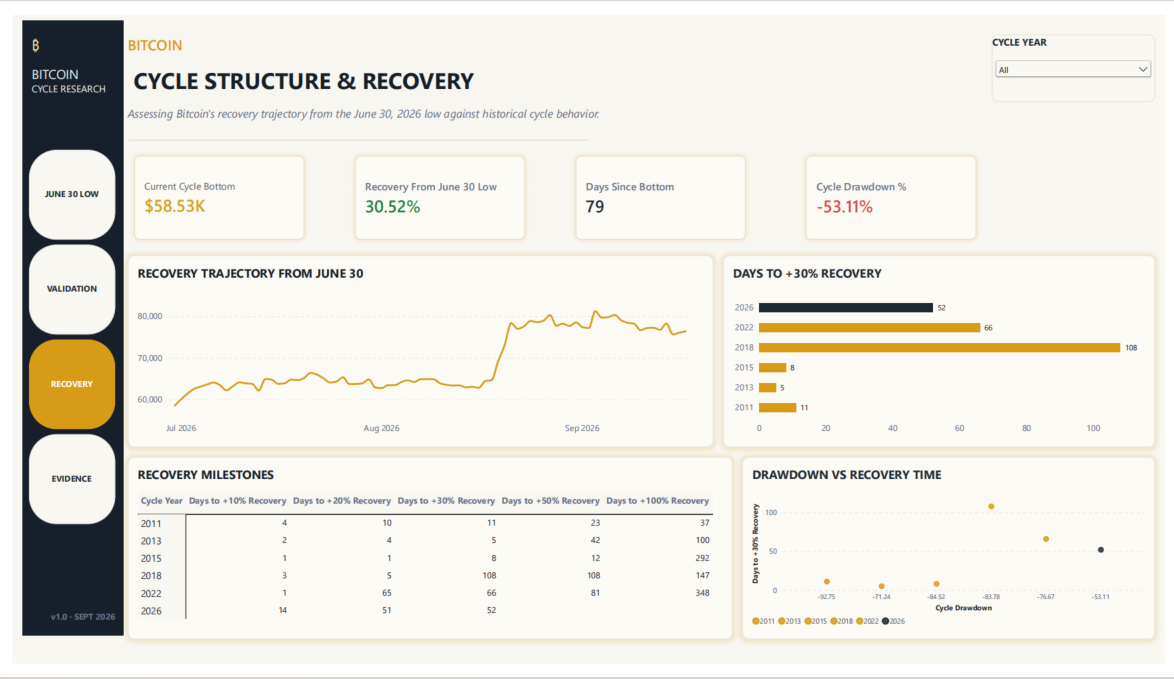

The page's visual inventory and layout, read from the dashboard file:
{"tool":"powerbi","page":{"name":"RECOVERY","canvas":[1920,1080],"ordinal":2},"visuals":[{"type":"shape","box":[15.7,9.2,167.9,1024.3],"z":0},{"type":"textbox","box":[192,32,832,176],"z":1000},{"type":"textbox","box":[32,32,144,112],"z":2000},{"type":"shape","box":[192,192,768,32],"z":3000},{"type":"cardVisual","fields":{"Data":["Measures Table.Current Cycle Bottom"]},"box":[192,224,304,160],"z":4000},{"type":"cardVisual","fields":{"Data":["Measures Table.Cycle Drawdown %"]},"box":[1312,224,304,160],"z":5000},{"type":"cardVisual","fields":{"Data":["Measures Table.Recovery From June 30 Low"]},"box":[560,224,304,160],"z":6000},{"type":"cardVisual","fields":{"Data":["Measures Table.Days Since Bottom"]},"box":[928,224,304,160],"z":7000},{"type":"lineChart","title":"RECOVERY TRAJECTORY FROM JUNE 30","fields":{"Category":["BTC Market Daily.Date"],"Y":["Avg(BTC Market Daily.BTC Price)"]},"box":[192,400,976,320],"z":8000},{"type":"pivotTable","title":"RECOVERY MILESTONES","fields":{"Rows":["Dim Cycle.Cycle Year"],"Values":["Max(Recovery Milestones.Days to +10% Recovery)","Max(Recovery Milestones.Days to +20% Recovery)","Max(Recovery Milestones.Days to +30% Recovery)","Max(Recovery Milestones.Days to +50% Recovery)","Max(Recovery Milestones.Days to +100% Recovery)"]},"box":[192,736,1008,304],"z":9000},{"type":"clusteredBarChart","title":"DAYS TO +30% RECOVERY","fields":{"Category":["Dim Cycle.Cycle Year"],"Y":["Max(Dim Cycle.Days to +30% Recovery)"]},"box":[1184,400,720,320],"z":10000},{"type":"scatterChart","title":"DRAWDOWN VS RECOVERY TIME","fields":{"Series":["Dim Cycle.Cycle Year"],"X":["Dim Cycle.Drawdown (%)"],"Y":["Max(Dim Cycle.Days to +30% Recovery)"]},"box":[1216,736,688,304],"z":11000},{"type":"slicer","title":"CYCLE YEAR","fields":{"Values":["Dim Cycle.Cycle Year"]},"box":[1632,32,272,112],"z":12000},{"type":"pageNavigator","box":[27.1,224.3,144.3,624.3],"z":12001},{"type":"textbox","box":[64,992,112,48],"z":12002}]}

Visuals, with their boxes in screenshot pixels (x1, y1, x2, y2), scaled from the page's 1920x1080 canvas onto the 1174x679 screenshot:
shape: (10, 6, 112, 650)
textbox: (117, 20, 626, 131)
textbox: (20, 20, 108, 91)
shape: (117, 121, 587, 141)
cardVisual - Measures Table.Current Cycle Bottom: (117, 141, 303, 241)
cardVisual - Measures Table.Cycle Drawdown %: (802, 141, 988, 241)
cardVisual - Measures Table.Recovery From June 30 Low: (342, 141, 528, 241)
cardVisual - Measures Table.Days Since Bottom: (567, 141, 753, 241)
"RECOVERY TRAJECTORY FROM JUNE 30" lineChart: (117, 251, 714, 453)
"RECOVERY MILESTONES" pivotTable: (117, 463, 734, 654)
"DAYS TO +30% RECOVERY" clusteredBarChart: (724, 251, 1164, 453)
"DRAWDOWN VS RECOVERY TIME" scatterChart: (744, 463, 1164, 654)
"CYCLE YEAR" slicer: (998, 20, 1164, 91)
pageNavigator: (17, 141, 105, 534)
textbox: (39, 624, 108, 654)
